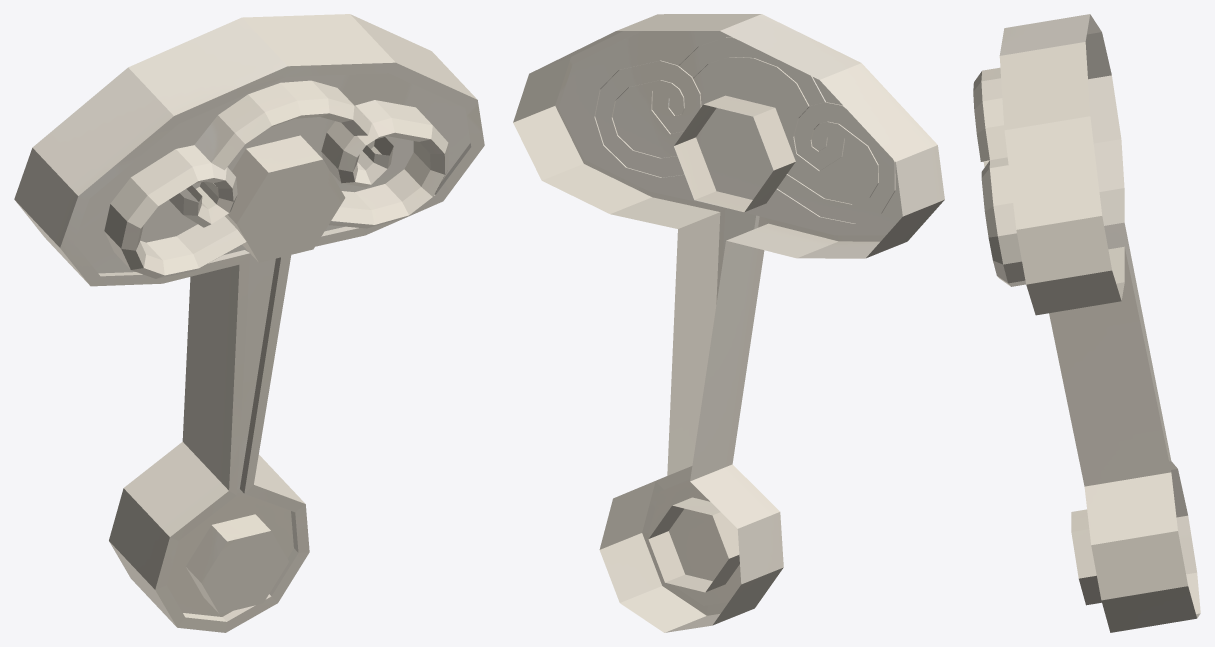
Rendered from Ornement.glb.
The picture shows the model from 3 angles, left to right: view 1: azimuth 30°, elevation 25°; view 2: azimuth 150°, elevation 25°; view 3: azimuth 270°, elevation 25°; orthographic projection. The views are drawn at different scales.
Parts seen in each view (by area): view 1: Ornement.001; view 2: Ornement.001; view 3: Ornement.001.
Part boxes in pixels (x1,y1,x2,y2): Ornement.001: (14,14,484,632); Ornement.001: (513,14,944,632); Ornement.001: (973,14,1200,632).
Size of the model in its own units: 5.41 by 7.63 by 2.68.
1 material, 1 textured.
